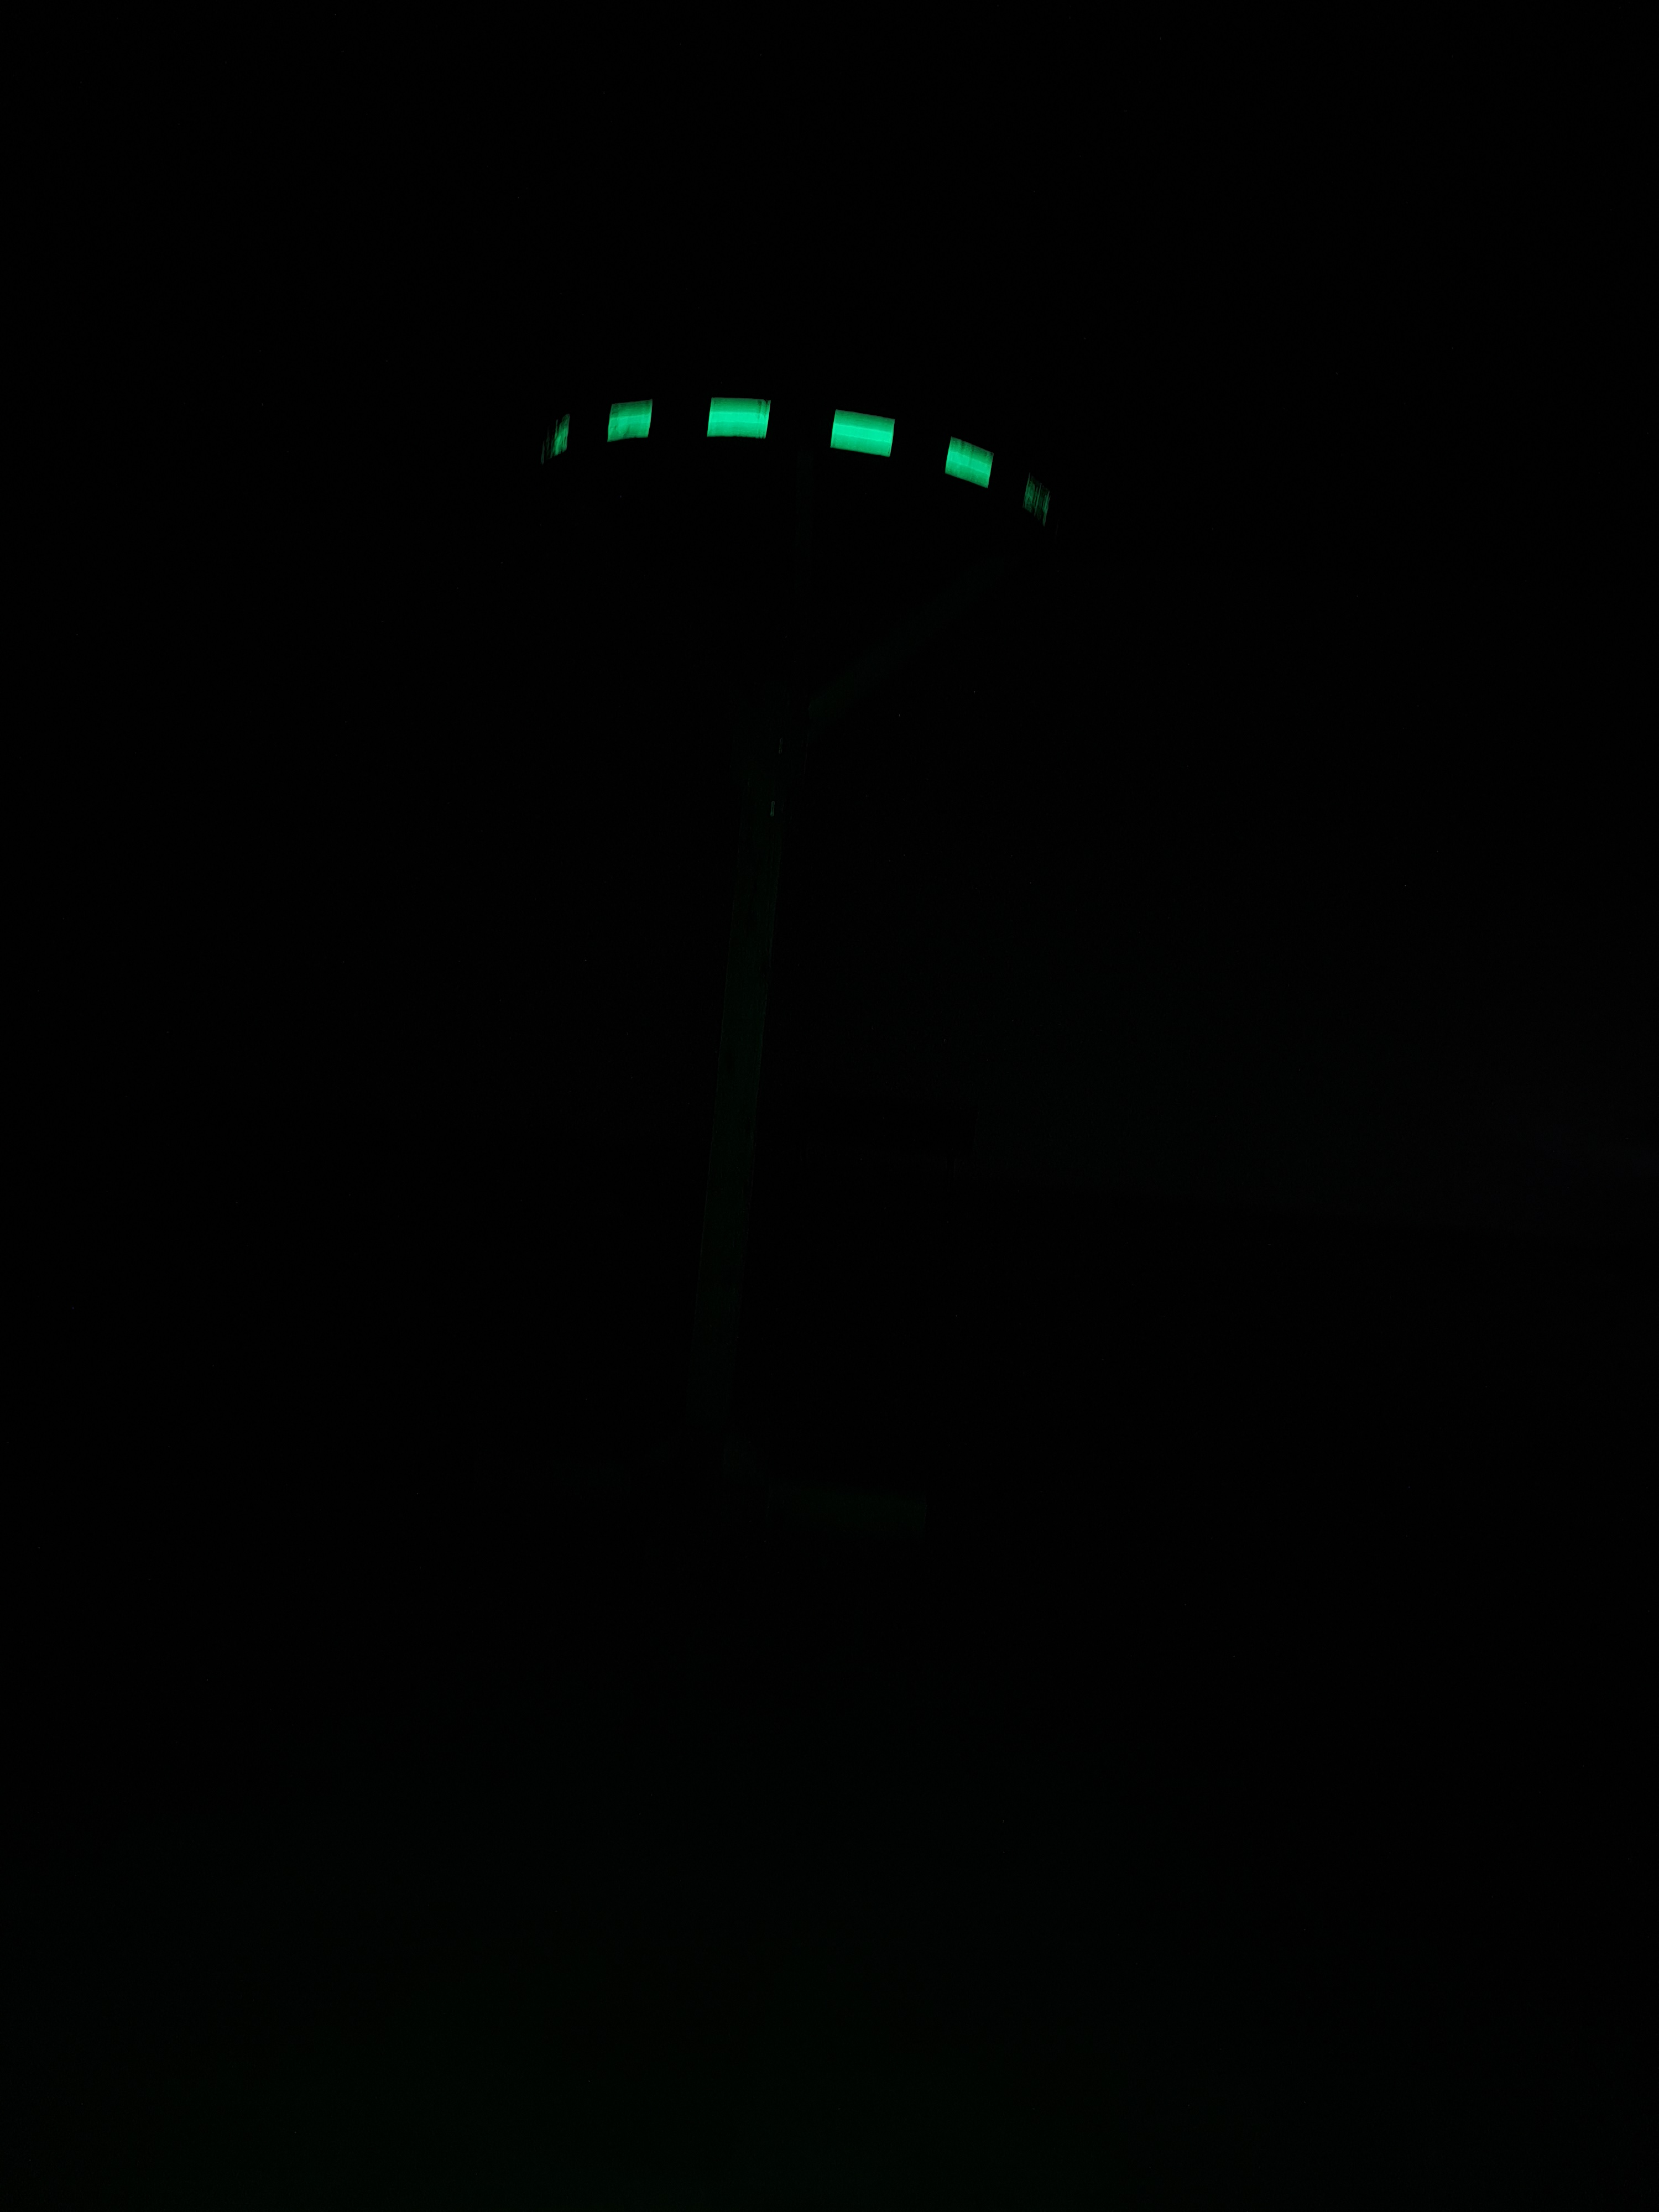hoop: (540, 394, 1054, 545)
